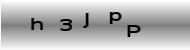3: (58, 18, 74, 31)
J: (82, 11, 89, 29)
P: (126, 24, 141, 38)
h: (30, 17, 44, 31)
p: (108, 11, 122, 25)
